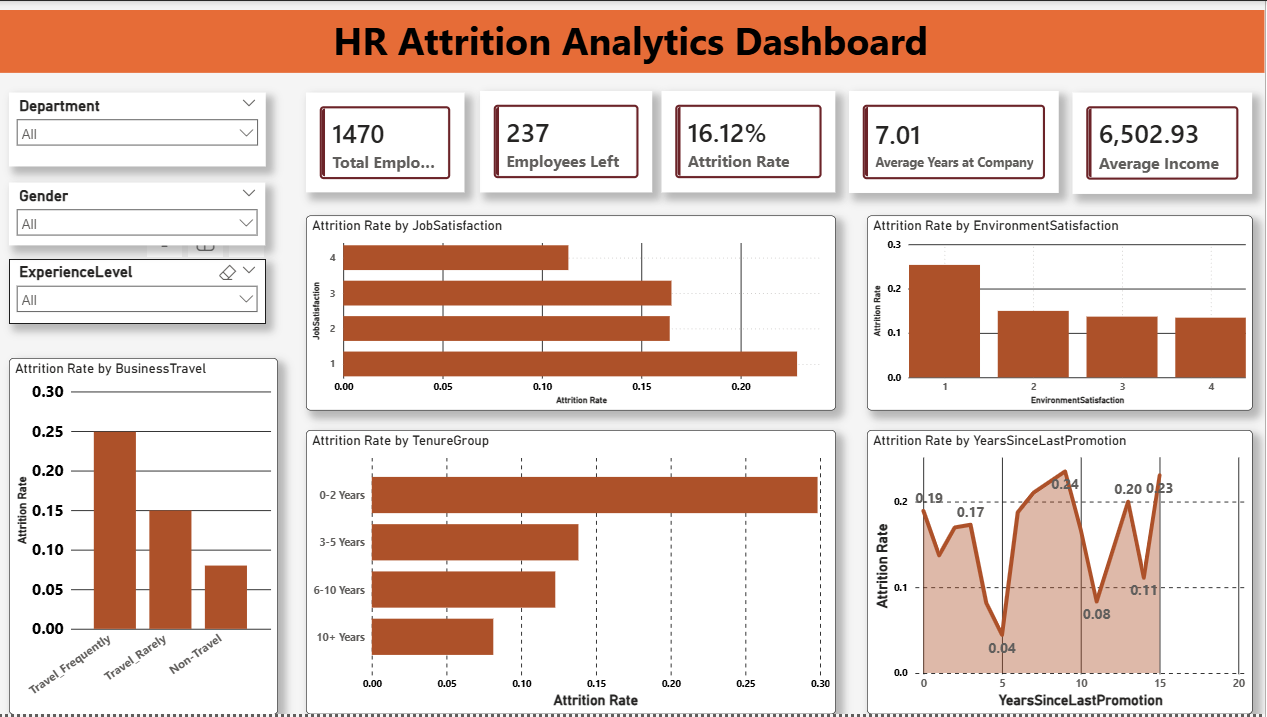

The page's visual inventory and layout, read from the dashboard file:
{"tool":"powerbi","page":{"name":"Page 2","canvas":[1600,900],"ordinal":1},"visuals":[{"type":"textbox","box":[0,11.4,1599.4,79.5],"z":0},{"type":"cardVisual","fields":{"Data":["hr_attrition hr_data.Employees Left"]},"box":[608.7,114.4,217.1,127.9],"z":1000},{"type":"cardVisual","fields":{"Data":["hr_attrition hr_data.Attrition Rate"]},"box":[839.4,114.4,219.1,127.9],"z":2000},{"type":"cardVisual","fields":{"Data":["Avg(hr_attrition hr_data.YearsAtCompany)"]},"box":[1075.1,113.6,265,128.7],"z":3000},{"type":"clusteredBarChart","fields":{"Category":["hr_attrition hr_data.JobSatisfaction"],"Y":["hr_attrition hr_data.Attrition Rate"]},"box":[389.7,271.4,668.8,246.2],"z":4000},{"type":"clusteredBarChart","fields":{"Y":["hr_attrition hr_data.Attrition Rate"],"Category":["hr_attrition hr_data.TenureGroup"]},"box":[389.7,540.9,668.8,358.6],"z":5000},{"type":"columnChart","fields":{"Category":["hr_attrition hr_data.EnvironmentSatisfaction"],"Y":["hr_attrition hr_data.Attrition Rate"]},"box":[1097.3,271.4,486.6,246.2],"z":6000},{"type":"clusteredColumnChart","fields":{"Category":["hr_attrition hr_data.BusinessTravel"],"Y":["hr_attrition hr_data.Attrition Rate"]},"box":[15.5,449.8,339.3,449.8],"z":7000},{"type":"slicer","fields":{"Values":["hr_attrition hr_data.Department"]},"box":[15.5,116.3,323.8,93.1],"z":8000},{"type":"slicer","fields":{"Values":["hr_attrition hr_data.ExperienceLevel"]},"box":[15.1,325.6,323.7,81.4],"z":9000},{"type":"slicer","fields":{"Values":["hr_attrition hr_data.Gender"]},"box":[15.1,229,323.7,79.5],"z":10000},{"type":"cardVisual","fields":{"Data":["hr_attrition hr_data.Total Employees"]},"box":[389.7,116.3,199.7,126],"z":13000},{"type":"cardVisual","fields":{"Data":["hr_attrition hr_data.Average Income"]},"box":[1357,116.3,226.8,127.9],"z":14000},{"type":"areaChart","fields":{"Category":["hr_attrition hr_data.YearsSinceLastPromotion"],"Y":["hr_attrition hr_data.Attrition Rate"]},"box":[1097.3,540.9,486.6,358.6],"z":14001}]}

Visuals, with their boxes in screenshot pixels (x1, y1, x2, y2), scaled from the page's 1600x900 canvas onto the 1267x717 screenshot:
textbox: rect(0, 9, 1266, 72)
cardVisual - hr_attrition hr_data.Employees Left: rect(482, 91, 654, 193)
cardVisual - hr_attrition hr_data.Attrition Rate: rect(665, 91, 838, 193)
cardVisual - Avg(hr_attrition hr_data.YearsAtCompany): rect(851, 91, 1061, 193)
clusteredBarChart - hr_attrition hr_data.JobSatisfaction x hr_attrition hr_data.Attrition Rate: rect(309, 216, 838, 412)
clusteredBarChart - hr_attrition hr_data.Attrition Rate x hr_attrition hr_data.TenureGroup: rect(309, 431, 838, 716)
columnChart - hr_attrition hr_data.EnvironmentSatisfaction x hr_attrition hr_data.Attrition Rate: rect(869, 216, 1254, 412)
clusteredColumnChart - hr_attrition hr_data.BusinessTravel x hr_attrition hr_data.Attrition Rate: rect(12, 358, 281, 716)
slicer - hr_attrition hr_data.Department: rect(12, 93, 269, 167)
slicer - hr_attrition hr_data.ExperienceLevel: rect(12, 259, 268, 324)
slicer - hr_attrition hr_data.Gender: rect(12, 182, 268, 246)
cardVisual - hr_attrition hr_data.Total Employees: rect(309, 93, 467, 193)
cardVisual - hr_attrition hr_data.Average Income: rect(1075, 93, 1254, 195)
areaChart - hr_attrition hr_data.YearsSinceLastPromotion x hr_attrition hr_data.Attrition Rate: rect(869, 431, 1254, 716)
